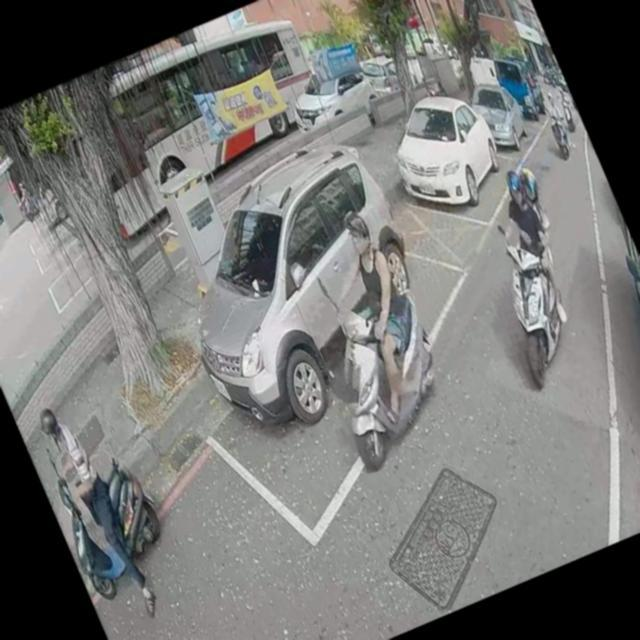person: (296, 196, 450, 426), (24, 384, 161, 632), (471, 160, 582, 336), (492, 164, 588, 317), (540, 90, 576, 152), (14, 178, 36, 214), (554, 83, 572, 110)
